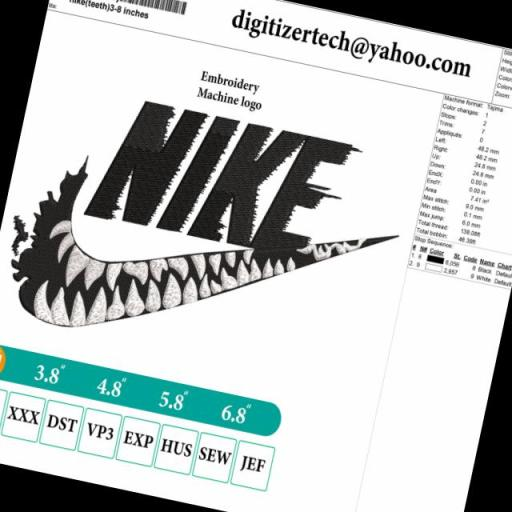Nike: (1, 195, 322, 374), (82, 88, 360, 272)
